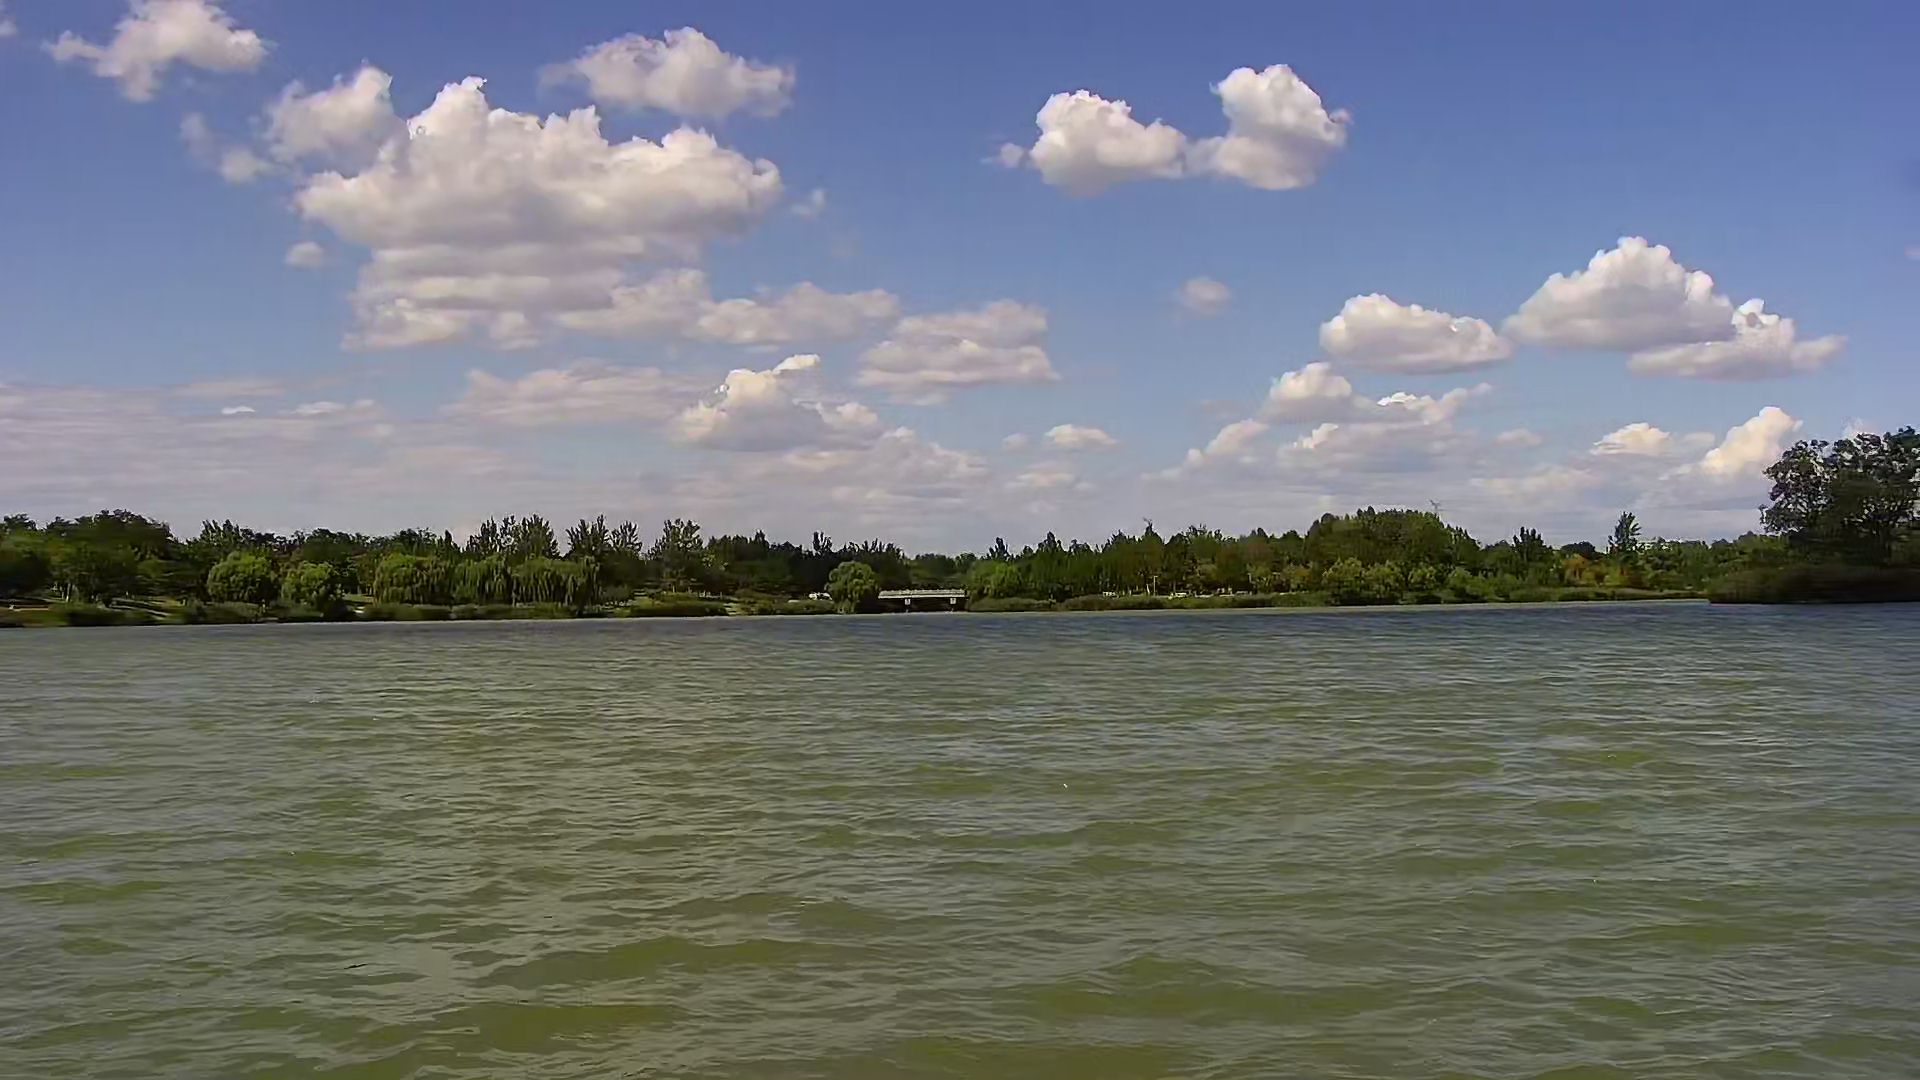bridge: (878, 584, 967, 617)
